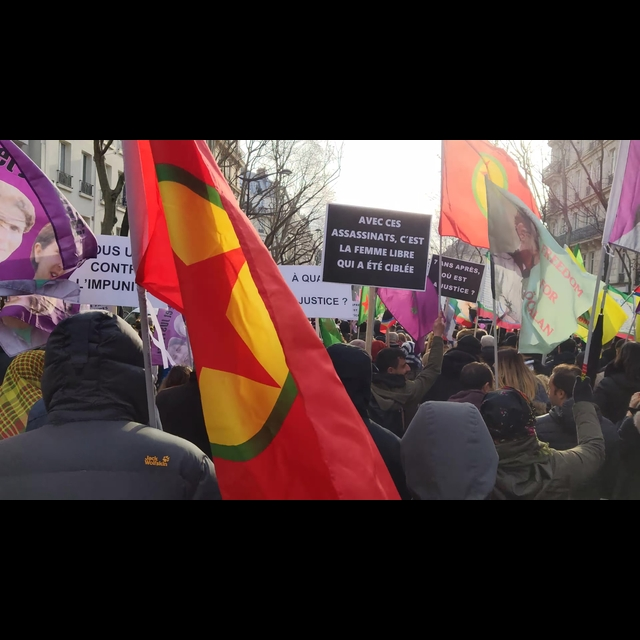PKK: (112, 147, 326, 471)
